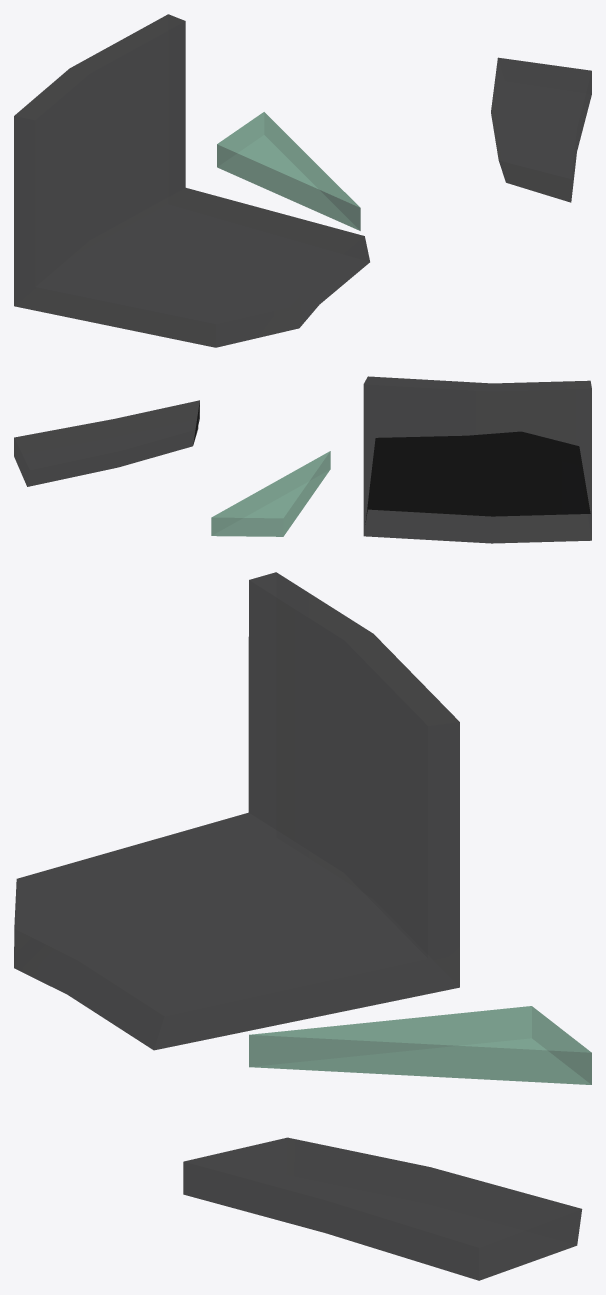
Rendered from PetriFragments004.FBX.
3 views of the same model, one above another, from view 1: azimuth 30°, elevation 25°; view 2: azimuth 150°, elevation 25°; view 3: azimuth 270°, elevation 25° (orthographic). The views are drawn at different scales.
Visible parts, largest first — view 1: Object004; view 2: Object004; view 3: Object004.
Boxes of the visible parts, <box> form: Object004: <box>14,14,591,347</box>; Object004: <box>14,376,591,543</box>; Object004: <box>14,572,591,1280</box>.
Size of the model in its own units: 51.21 by 14.31 by 28.23.
